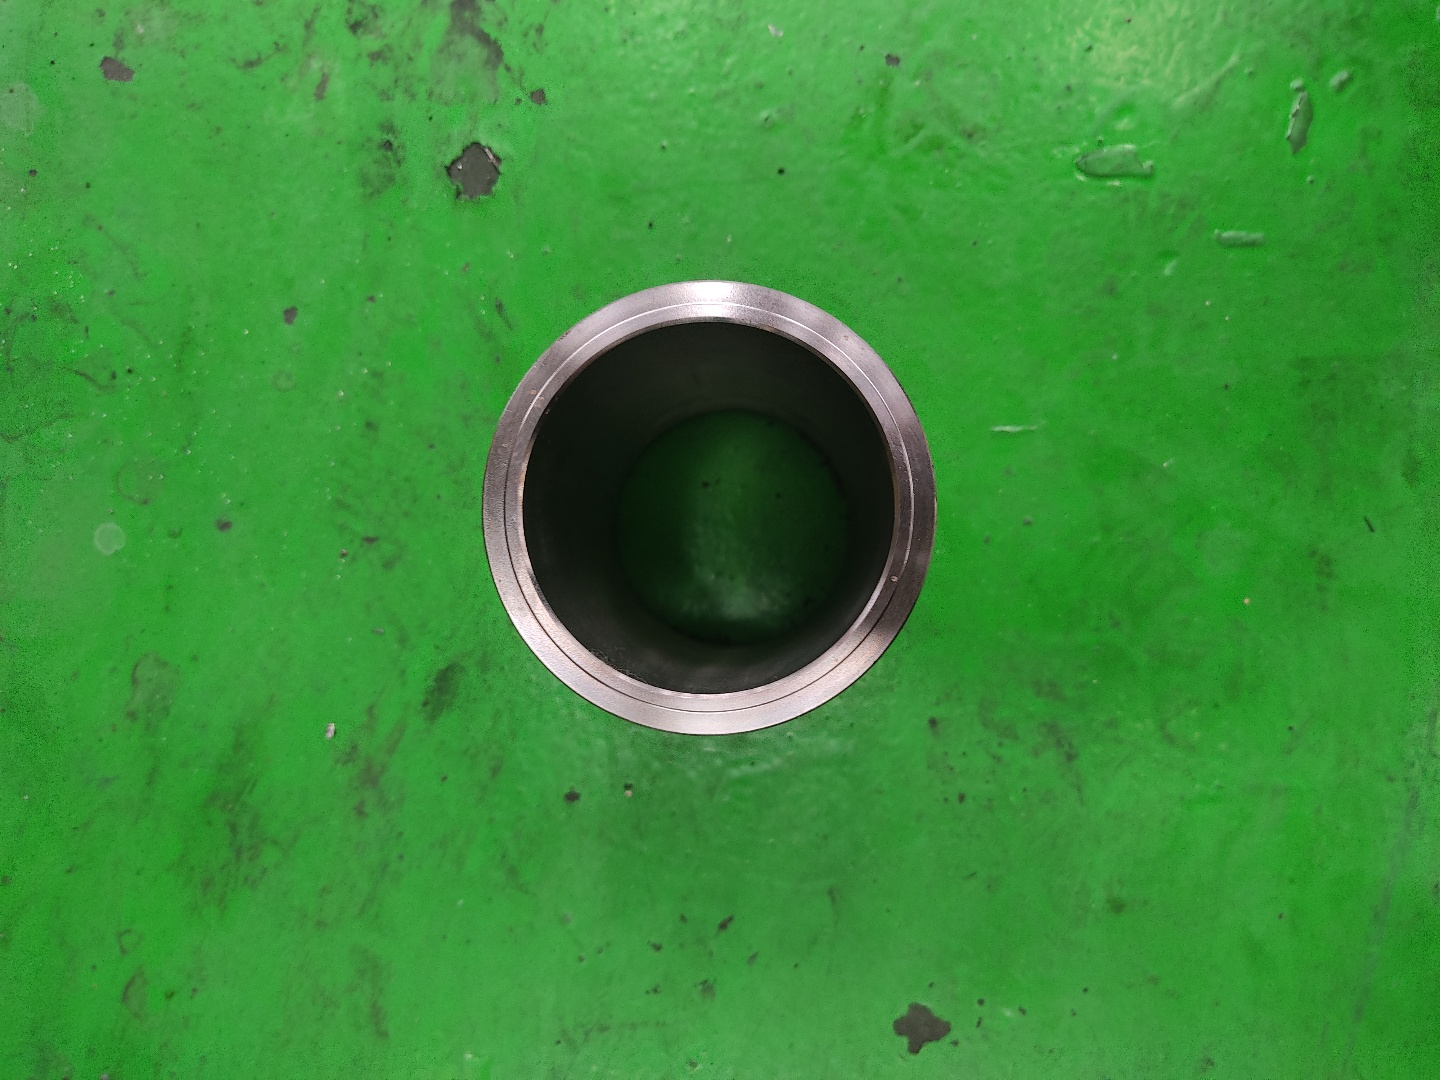cylinder: (478, 276, 943, 741)
